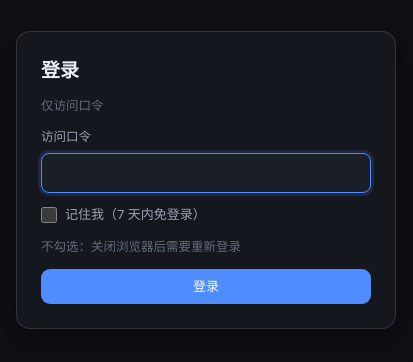
Scenario: AuthGate › 登录失败显示服务端文案并停留在表单
Expected: the password field with test id "login-password" is shown, [41,153,371,193]
Step 1. Click the button with test id "login-submit" → (206,286), box [41,269,371,304]
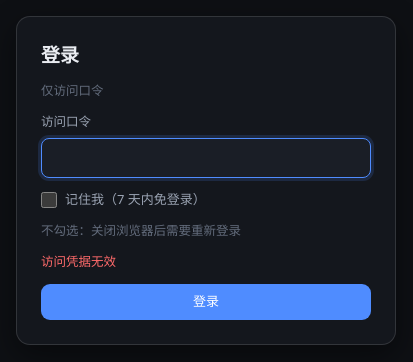
Result: the message with test id "login-error" reads "访问凭据无效" at [41,253,116,270]
